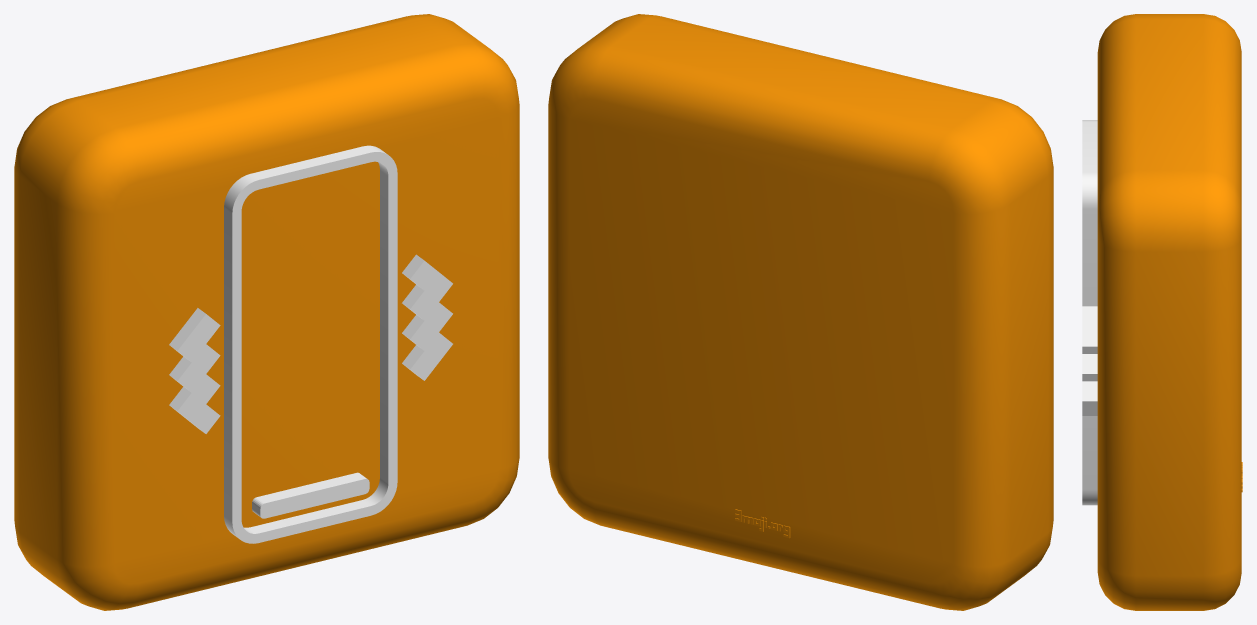
The model's file is vibration_mode.fbx.
3 views of the same model, side by side, from view 1: azimuth 30°, elevation 25°; view 2: azimuth 150°, elevation 25°; view 3: azimuth 270°, elevation 25° (orthographic). The views are drawn at different scales.
Parts seen in each view (by area): view 1: Cube.147, Cube.127, Cube.291; view 2: Cube.147; view 3: Cube.147, Cube.127, Cube.291.
Boxes of the visible parts, x1,y1,x2,y2 form: Cube.147: [14, 14, 519, 610]; Cube.127: [224, 145, 397, 543]; Cube.291: [169, 254, 452, 433]; Cube.147: [548, 14, 1053, 610]; Cube.147: [1097, 14, 1242, 610]; Cube.127: [1082, 120, 1097, 505]; Cube.291: [1082, 306, 1097, 415].
Size of the model in its own units: 220 by 220 by 73.37.
Materials: 1 (1 with a texture image).
